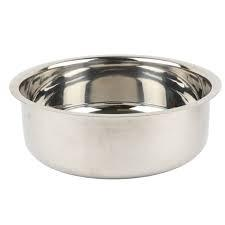Sponge Bowl: (11, 51, 225, 183)
